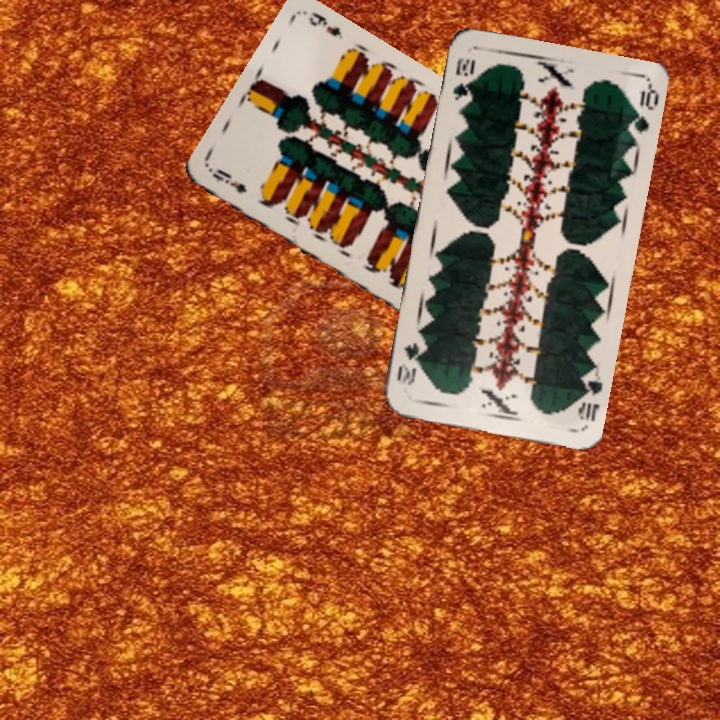E9: (207, 164, 250, 196)
G10: (573, 367, 606, 424), (448, 53, 478, 103)
